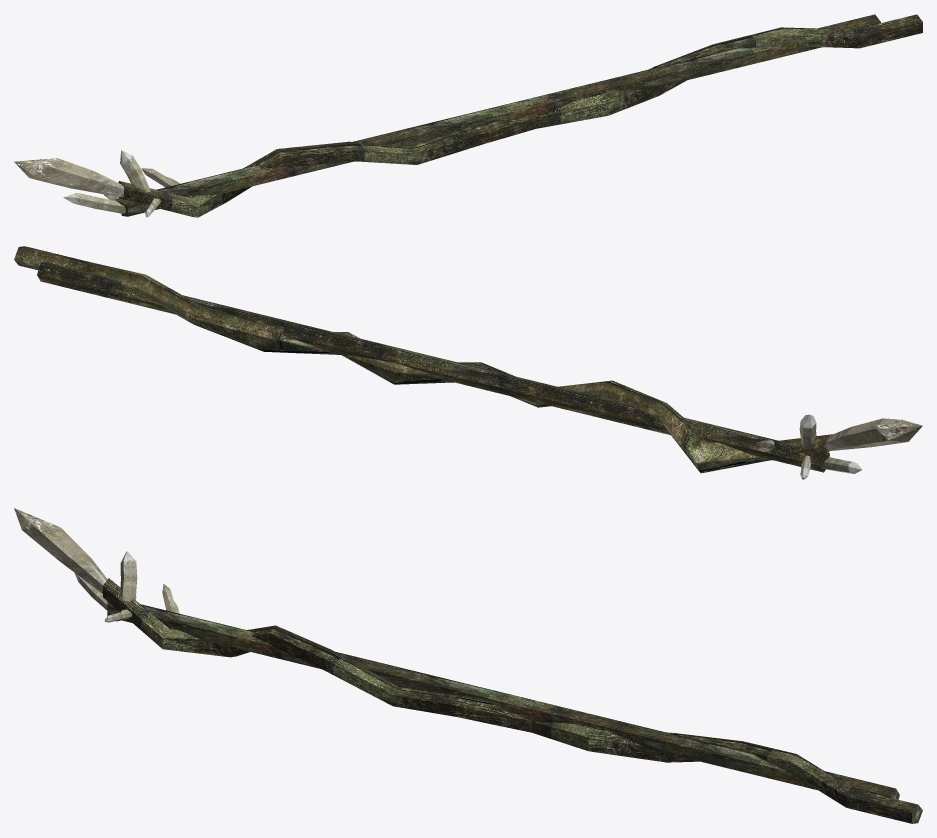
The model's file is ITMW_2H_STAFF_L_CRYSTAL.glb.
3 views of the same model, one above another, from view 1: azimuth 30°, elevation 25°; view 2: azimuth 150°, elevation 25°; view 3: azimuth 330°, elevation 25° (orthographic). The views are drawn at different scales.
Visible parts, largest first — view 1: ITMW_2H_STAFF_L_CRYSTAL; view 2: ITMW_2H_STAFF_L_CRYSTAL; view 3: ITMW_2H_STAFF_L_CRYSTAL.
Part boxes in pixels (left/top/right/bottom): ITMW_2H_STAFF_L_CRYSTAL: left=14, top=14, right=922, bottom=217; ITMW_2H_STAFF_L_CRYSTAL: left=14, top=246, right=922, bottom=479; ITMW_2H_STAFF_L_CRYSTAL: left=14, top=508, right=922, bottom=823.
Bounding box in the file's own units: 1.58 × 0.1611 × 0.1106.
4 materials, 4 textured.
